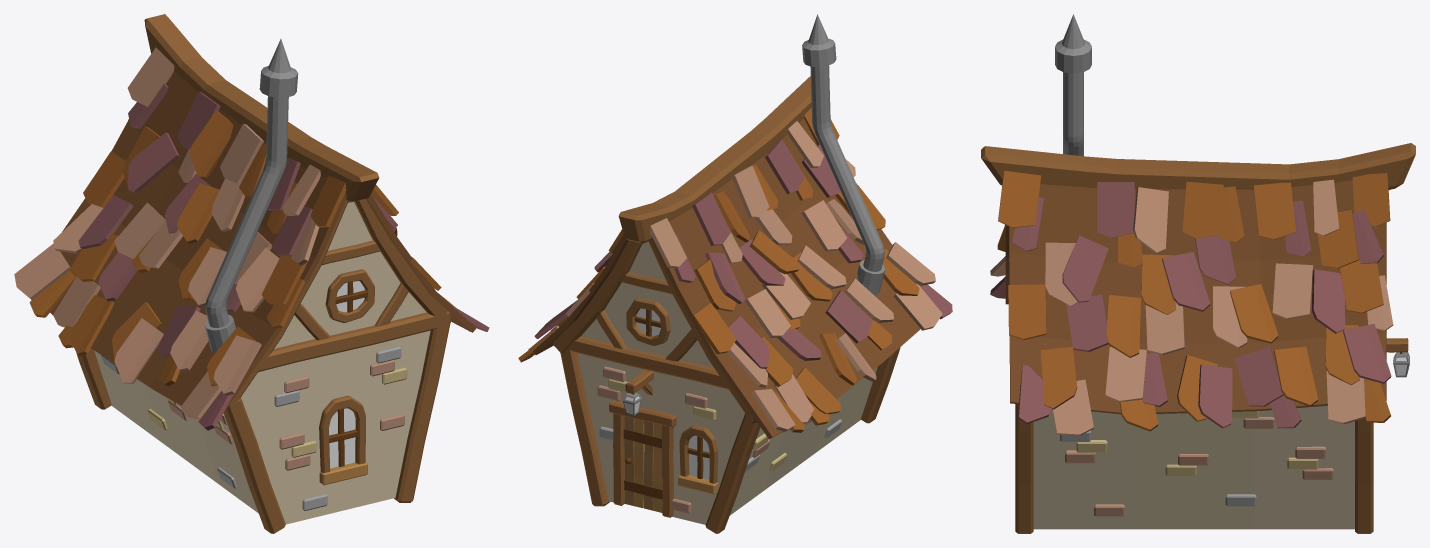
File: Petite Maison 1.fbx
3 views of the same model, side by side, from view 1: azimuth 30°, elevation 25°; view 2: azimuth 150°, elevation 25°; view 3: azimuth 270°, elevation 25° (orthographic). The views are drawn at different scales.
Parts seen in each view (by area): view 1: Plan.005, Plan.001, Cube.022, Cylinder, Plan.002, Cube.013, Cube.012, Cube.011, Cube.015, Cube.101, Cube.072, Cube.088 (+46 smaller); view 2: Plan.001, Plan, Cube.022, Cylinder, Plan.002, Cube.001, Cube.002, Cube, Cube.004, Cube.079, Cube.082, Cube.115 (+45 smaller); view 3: Plan.004, Plan.003, Cube.022, Cylinder, Cube.012, Cube.001, Cube.124, Cube.142, Cube.122, Cube.131, Cube.144, Cube.119 (+37 smaller).
Boxes of the visible parts, left/top/right/bottom form: Plan.005: left=241, top=201, right=430, bottom=524; Plan.001: left=50, top=71, right=346, bottom=414; Cube.022: left=144, top=14, right=379, bottom=202; Cylinder: left=205, top=39, right=298, bottom=353; Plan.002: left=94, top=350, right=258, bottom=513; Cube.013: left=256, top=311, right=450, bottom=372; Cube.012: left=394, top=324, right=450, bottom=502; Cube.011: left=223, top=397, right=285, bottom=533; Cube.015: left=354, top=199, right=447, bottom=316; Cube.101: left=114, top=318, right=163, bottom=383; Cube.072: left=189, top=110, right=233, bottom=177; Cube.088: left=14, top=243, right=70, bottom=299; Plan.001: left=651, top=118, right=920, bottom=439; Plan: left=577, top=241, right=744, bottom=524; Cube.022: left=618, top=76, right=811, bottom=243; Cylinder: left=802, top=14, right=885, bottom=295; Plan.002: left=730, top=367, right=877, bottom=515; Cube.001: left=560, top=349, right=609, bottom=506; Cube.002: left=567, top=336, right=728, bottom=389; Cube: left=705, top=413, right=760, bottom=533; Cube.004: left=553, top=240, right=642, bottom=353; Cube.079: left=825, top=290, right=872, bottom=343; Cube.082: left=801, top=200, right=847, bottom=251; Cube.115: left=745, top=289, right=790, bottom=337; Plan.004: left=1033, top=405, right=1354, bottom=529; Plan.003: left=1009, top=180, right=1386, bottom=414; Cube.022: left=981, top=143, right=1415, bottom=189; Cylinder: left=1055, top=14, right=1091, bottom=156; Cube.012: left=1015, top=404, right=1033, bottom=533; Cube.001: left=1355, top=418, right=1373, bottom=533; Cube.124: left=1253, top=182, right=1295, bottom=239; Cube.142: left=998, top=170, right=1041, bottom=227; Cube.122: left=1182, top=181, right=1223, bottom=238; Cube.131: left=1272, top=263, right=1313, bottom=319; Cube.144: left=1008, top=284, right=1046, bottom=339; Cube.119: left=1097, top=182, right=1134, bottom=237.
Bounding box in the file's own units: 353 × 527 × 441.
